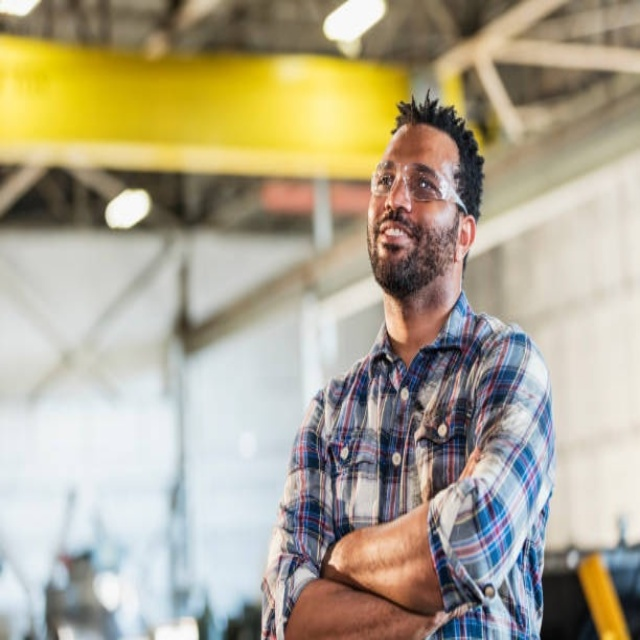Gafas: (369, 161, 470, 208)
Sin_mascara: (375, 216, 415, 267)
